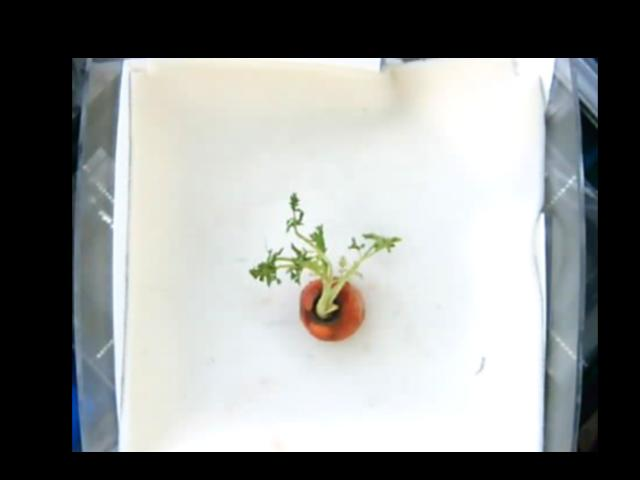Carrot: (248, 190, 404, 342)
